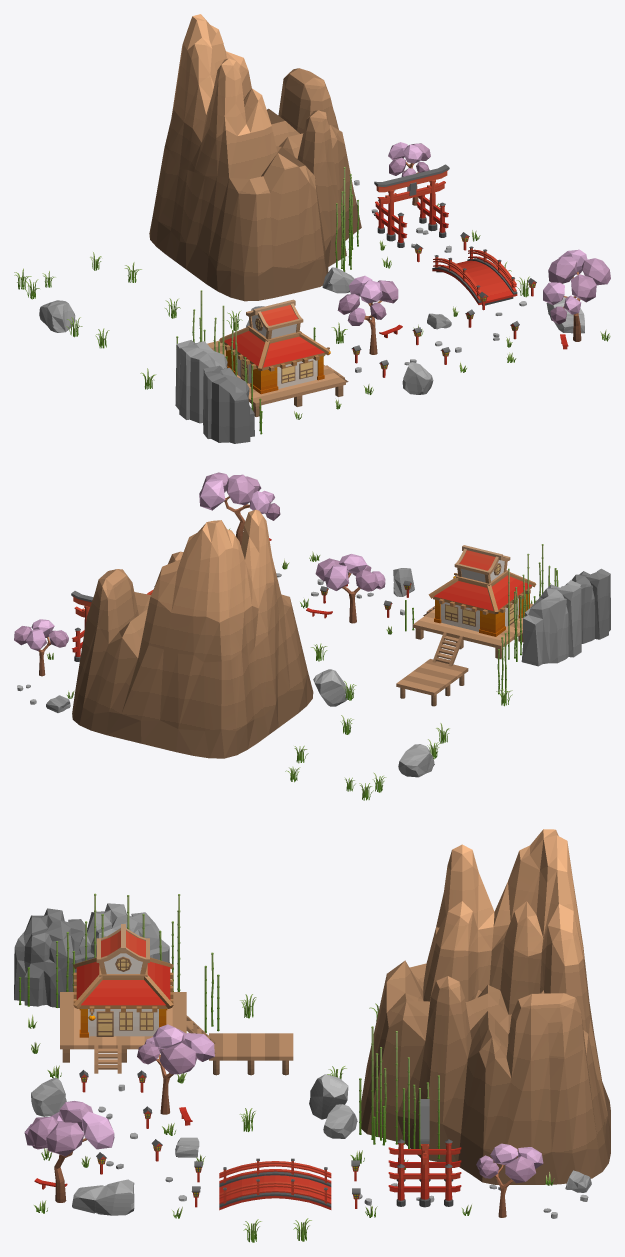
Rendered from field_10.glb.
The picture shows the model from 3 angles, top to bottom: view 1: azimuth 30°, elevation 25°; view 2: azimuth 150°, elevation 25°; view 3: azimuth 270°, elevation 25°; orthographic projection. The views are drawn at different scales.
Parts seen in each view (by area): view 1: mountain_88, japanese house_80, stone large 2_105, torii gate_12, sakura tree 3_37, japanese bridge_35, stone large_5, sakura tree 2_75, sakura tree 2 (1)_51, stone small 4_91, stone small 4 (2)_52, stone small 4 (1)_53; view 2: mountain_88, japanese house_80, stone large_5, sakura tree 3_37, wooden pier_43, stone large 2_105, sakura tree 2_75, sakura tree 2 (1)_51, stone small 4_91, stone small 6_25, torii gate_12, stone small 4 (2)_52; view 3: mountain_88, japanese house_80, stone large 2_105, japanese bridge_35, sakura tree 3_37, torii gate_12, sakura tree 2_75, wooden pier_43, stone large_5, sakura tree 2 (1)_51, stone small 5_94, stone small 6_25 (+2 smaller).
Boxes of the visible parts, x1,y1,x2,y2 form: mountain_88: (149,14,361,301); japanese house_80: (219,299,348,416); stone large 2_105: (203,365,254,443); torii gate_12: (374,164,449,247); sakura tree 3_37: (543,249,610,341); japanese bridge_35: (432,246,517,305); stone large_5: (175,340,227,423); sakura tree 2_75: (337,275,398,354); sakura tree 2 (1)_51: (388,142,430,205); stone small 4_91: (39,300,75,332); stone small 4 (2)_52: (402,362,433,394); stone small 4 (1)_53: (322,267,354,293); mountain_88: (72,509,313,758); japanese house_80: (413,545,536,659); stone large_5: (521,580,581,666); sakura tree 3_37: (199,472,280,545); wooden pier_43: (396,632,468,706); stone large 2_105: (572,568,610,643); sakura tree 2_75: (315,554,385,623); sakura tree 2 (1)_51: (14,619,68,676); stone small 4_91: (398,744,434,777); stone small 6_25: (313,669,347,706); torii gate_12: (71,591,93,661); stone small 4 (2)_52: (393,568,414,596); mountain_88: (361,829,610,1184); japanese house_80: (60,924,186,1073); stone large 2_105: (14,908,96,1007); japanese bridge_35: (219,1158,331,1210); sakura tree 3_37: (24,1101,114,1202); torii gate_12: (388,1099,461,1207); sakura tree 2_75: (137,1024,214,1114); wooden pier_43: (186,1015,293,1075); stone large_5: (79,903,169,962); sakura tree 2 (1)_51: (476,1143,543,1217); stone small 5_94: (72,1179,134,1215); stone small 6_25: (309,1074,348,1119).
Bounding box in the file's own units: 20.01 × 11.49 × 20.55.
1 material, 1 textured.
